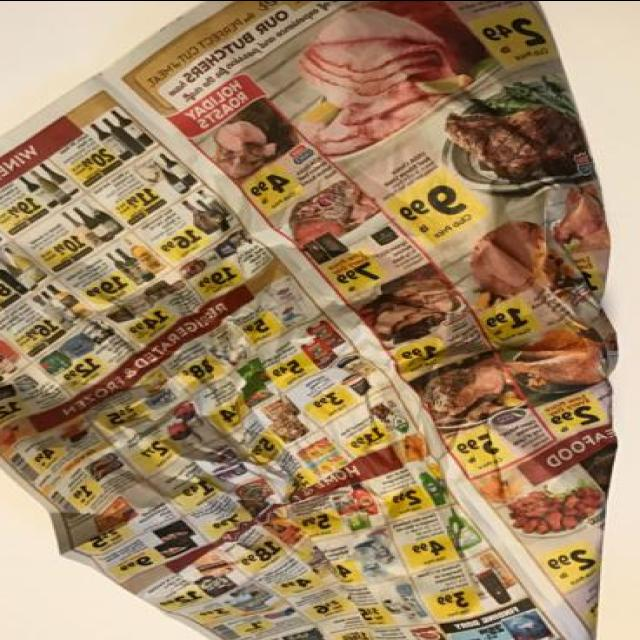kertas: (0, 0, 620, 640)
